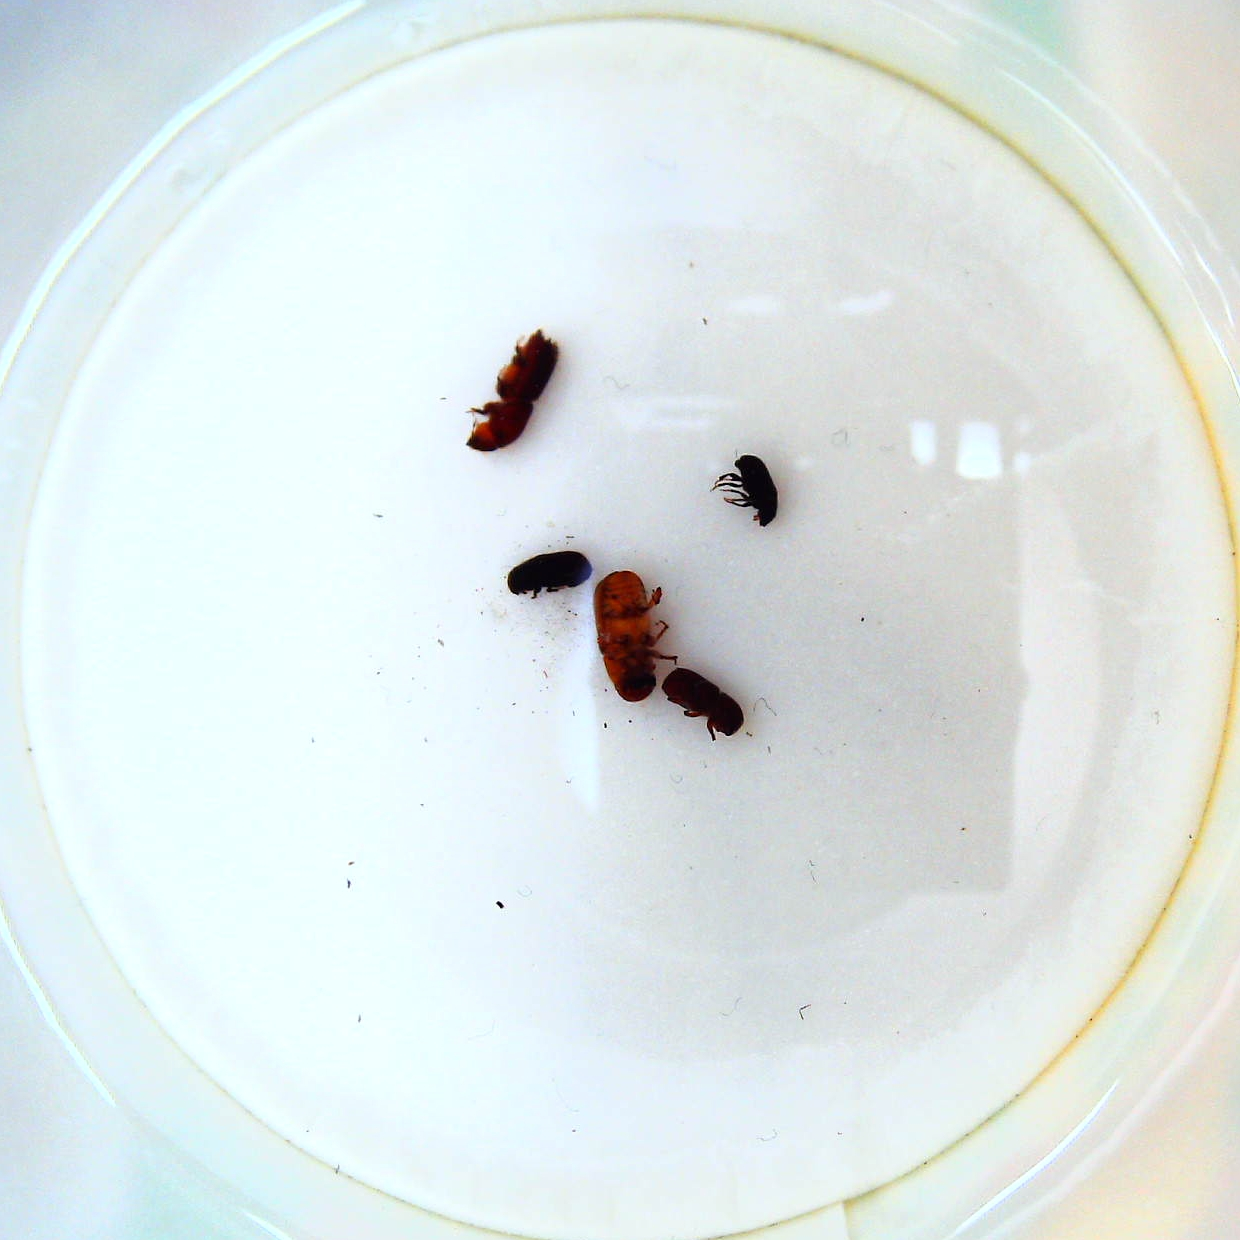Boerner: (462, 322, 567, 459)
Leconte: (584, 564, 681, 705)
armandi: (496, 548, 598, 598)
coleoptera: (710, 449, 786, 533)
linnaeus: (657, 664, 745, 747)
